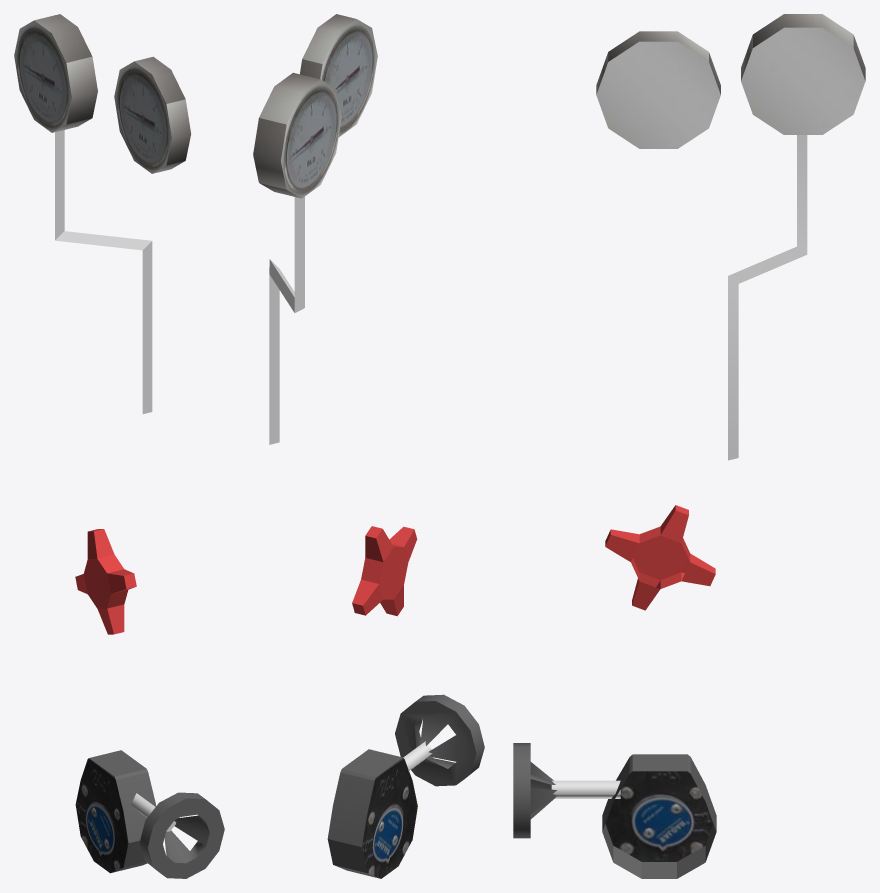
Rendered from 管道仪表.obj.
3 renders of one model, left to right at view 1: azimuth 30°, elevation 25°; view 2: azimuth 150°, elevation 25°; view 3: azimuth 270°, elevation 25°, orthographic. The views are drawn at different scales.
Parts seen in each view (by area): view 1: Object022, Object023, Object024, Donut004, Line083, Cylinder209, Object021; view 2: Object023, Object022, Donut004, Object024, Line083, Cylinder209, Object021; view 3: Object022, Object024, Object023, Line083, Cylinder209, Donut004, Object021, Cylinder208.
Boxes of the visible parts, box(x1,y1,x2,y2) form: Object022: box(14, 14, 97, 132); Object023: box(75, 750, 155, 873); Object024: box(114, 56, 191, 173); Donut004: box(139, 792, 224, 878); Line083: box(55, 130, 152, 413); Cylinder209: box(75, 529, 136, 634); Object021: box(83, 559, 110, 608); Object023: box(327, 749, 417, 878); Object022: box(253, 72, 341, 198); Donut004: box(395, 694, 484, 786); Object024: box(300, 14, 377, 136); Line083: box(269, 196, 304, 444); Cylinder209: box(352, 526, 417, 616); Object021: box(379, 547, 408, 599); Object022: box(741, 14, 865, 134); Object024: box(596, 31, 720, 148); Object023: box(602, 754, 716, 878); Line083: box(728, 135, 807, 460); Cylinder209: box(605, 505, 715, 610); Donut004: box(513, 743, 557, 838); Object021: box(633, 535, 687, 579); Cylinder208: box(551, 780, 620, 798).
Bounding box in the file's own units: 18.88 × 137 × 51.3.
